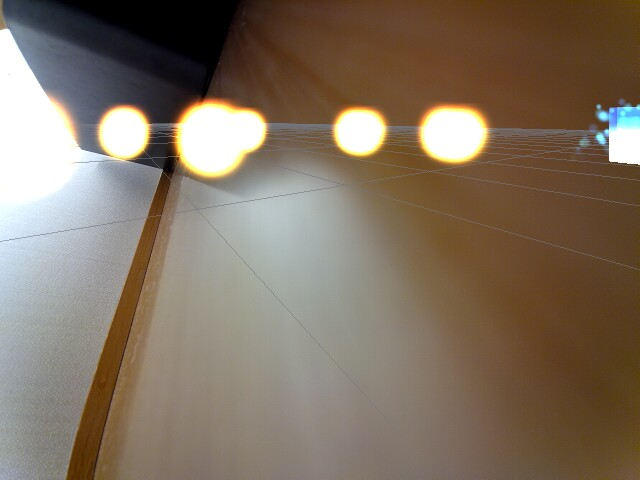firebig: (0, 52, 80, 219)
